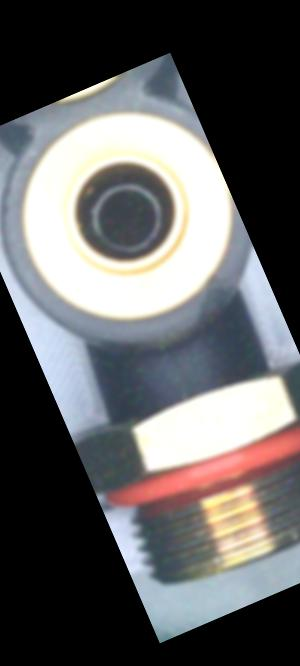bump: (185, 274, 242, 325)
joint line: (163, 341, 200, 400)
